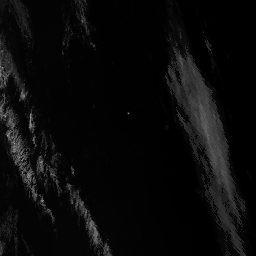Target: (126, 110, 131, 115)
